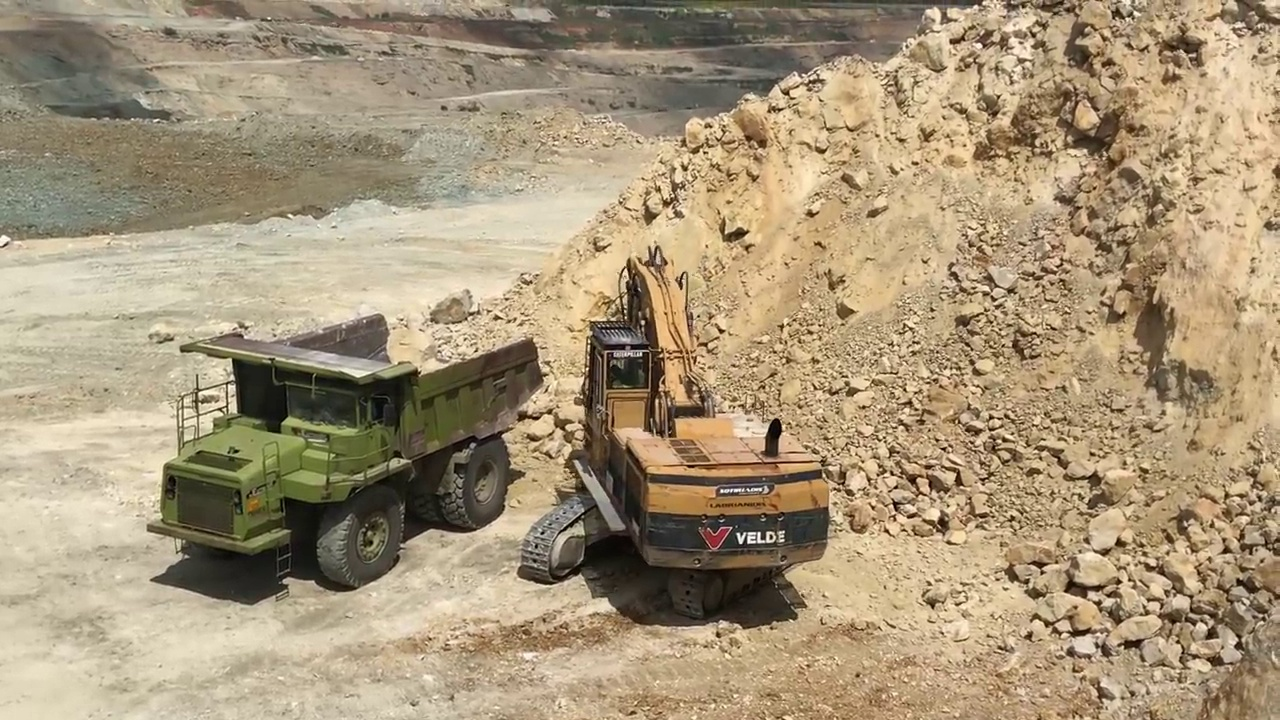truck: (148, 313, 551, 593)
wheel loader: (521, 244, 834, 615)
